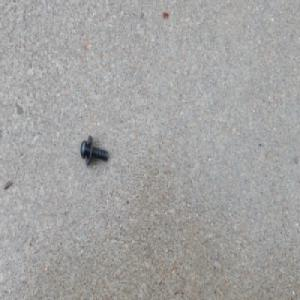BoltWasher: (79, 134, 108, 168)
